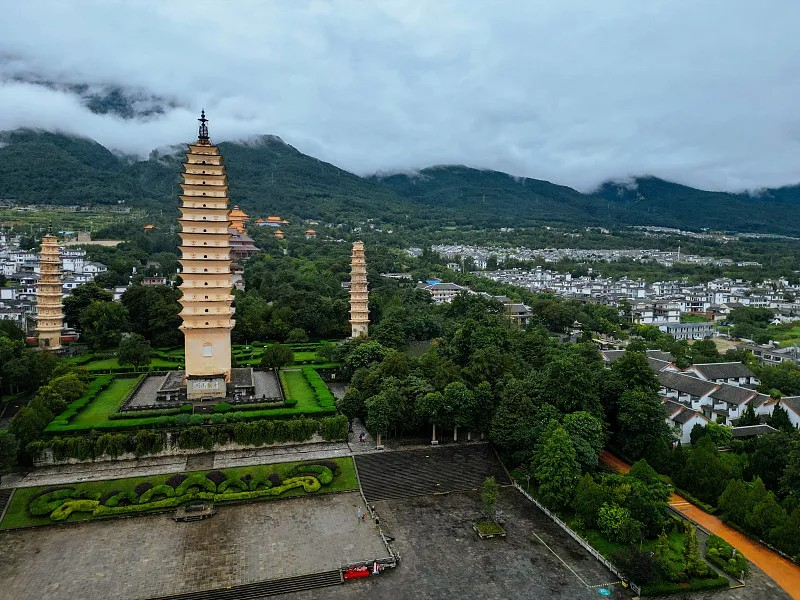ThreePagoda: (178, 109, 236, 382)
